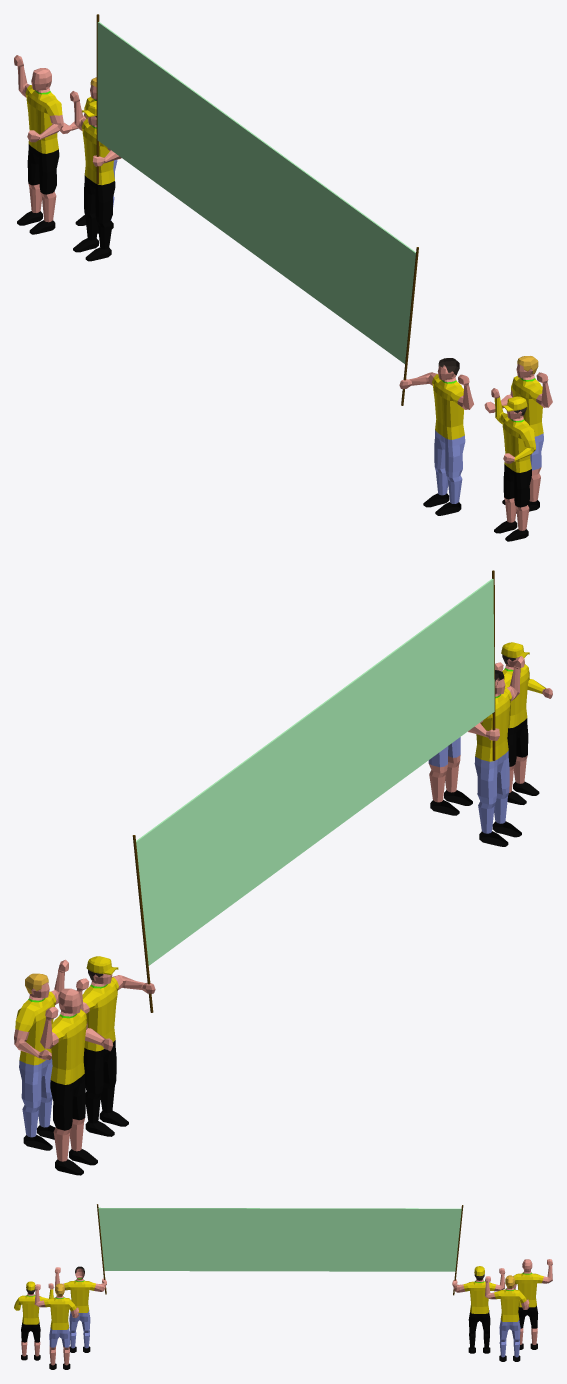
Rendered from faixa.fbx.
3 views of the same model, one above another, from view 1: azimuth 30°, elevation 25°; view 2: azimuth 150°, elevation 25°; view 3: azimuth 270°, elevation 25° (orthographic). The views are drawn at different scales.
Visible parts, largest first — view 1: faixa_banner, patriot.006, patriot.002, patriot, patriot.005, patriot.004; view 2: faixa_banner, patriot.006, patriot.003, patriot, patriot.002, patriot.005, patriot.004; view 3: faixa_banner, patriot.003, patriot.004, patriot, patriot.002, patriot.006, patriot.005.
Boxes of the visible parts, x1=… form: faixa_banner: x1=97, y1=22, x2=415, y2=363; patriot.006: x1=14, y1=55, x2=63, y2=234; patriot.002: x1=399, y1=358, x2=473, y2=515; patriot: x1=70, y1=91, x2=121, y2=261; patriot.005: x1=491, y1=388, x2=535, y2=541; patriot.004: x1=484, y1=356, x2=552, y2=513; faixa_banner: x1=136, y1=579, x2=494, y2=965; patriot.006: x1=40, y1=988, x2=113, y2=1175; patriot.003: x1=14, y1=959, x2=68, y2=1150; patriot: x1=76, y1=970, x2=155, y2=1136; patriot.002: x1=468, y1=656, x2=524, y2=846; patriot.005: x1=495, y1=654, x2=552, y2=804; patriot.004: x1=428, y1=737, x2=472, y2=815; faixa_banner: x1=98, y1=1207, x2=461, y2=1271; patriot.003: x1=485, y1=1275, x2=529, y2=1361; patriot.004: x1=34, y1=1283, x2=78, y2=1369; patriot: x1=452, y1=1268, x2=505, y2=1353; patriot.002: x1=54, y1=1266, x2=106, y2=1352; patriot.006: x1=513, y1=1259, x2=552, y2=1349; patriot.005: x1=14, y1=1283, x2=53, y2=1360.
Size of the model in its own units: 663 by 1423 by 4812.
